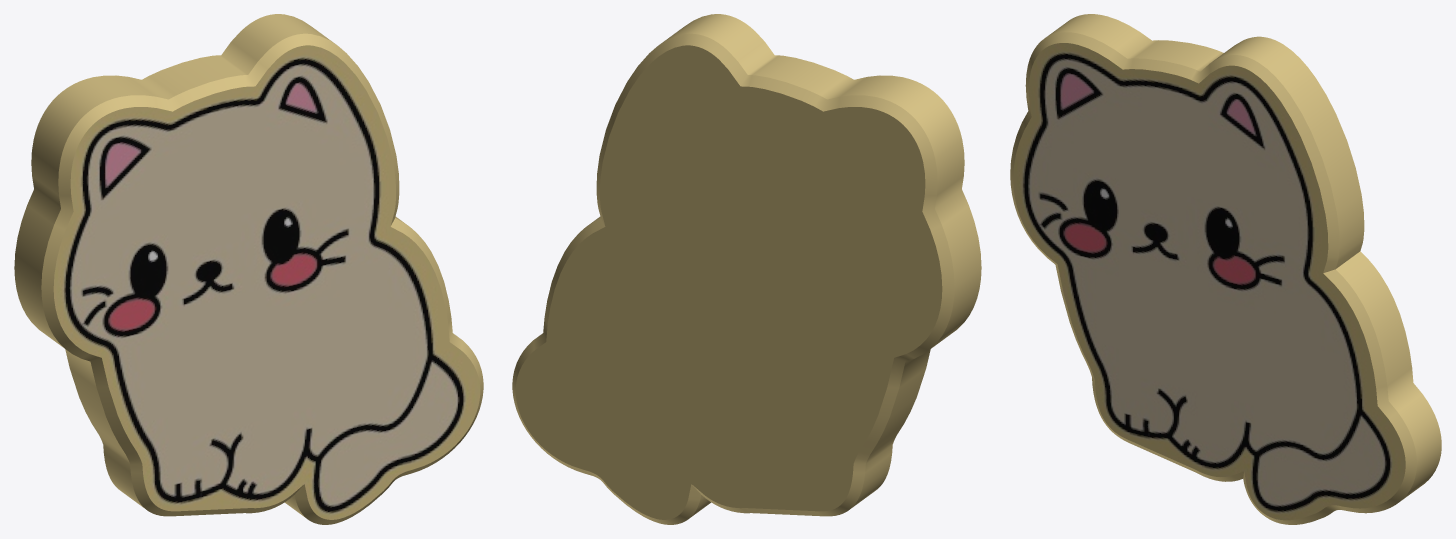
3 renders of one model, left to right at view 1: azimuth 30°, elevation 25°; view 2: azimuth 150°, elevation 25°; view 3: azimuth 330°, elevation 25°, orthographic. The views are drawn at different scales.
Visible parts, largest first — view 1: Path-Mat, Path-bg; view 2: Path-bg; view 3: Path-Mat, Path-bg.
Part boxes in pixels (<box>): Path-Mat: <box>53,45,480,519</box>; Path-bg: <box>14,14,483,524</box>; Path-bg: <box>512,14,981,524</box>; Path-Mat: <box>1013,43,1405,520</box>; Path-bg: <box>1010,14,1441,524</box>.
Size of the model in its own units: 710 by 765 by 100.
2 materials, 2 textured.
